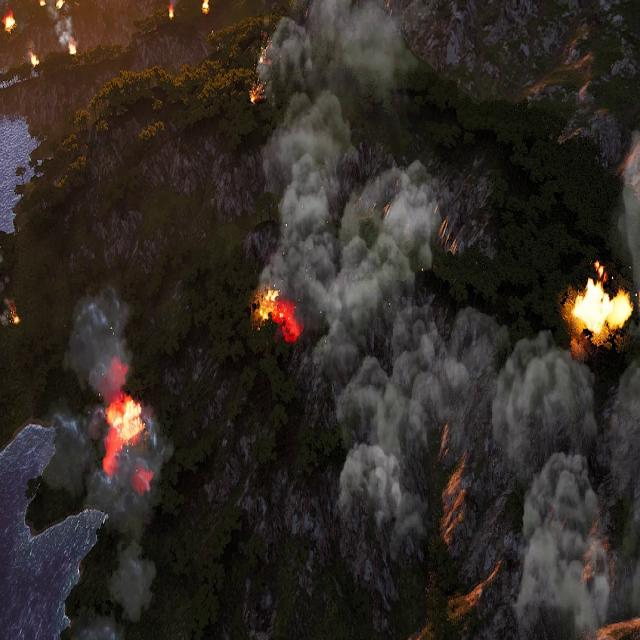fire: (571, 273, 634, 341), (255, 286, 301, 342), (106, 392, 146, 446), (250, 79, 265, 105), (2, 11, 15, 31), (29, 49, 40, 68), (12, 312, 22, 326), (54, 0, 66, 11), (68, 40, 77, 54), (169, 6, 175, 21), (202, 0, 208, 13), (39, 0, 46, 6)
smoke: (257, 0, 640, 640), (62, 286, 166, 638), (55, 12, 73, 46)
